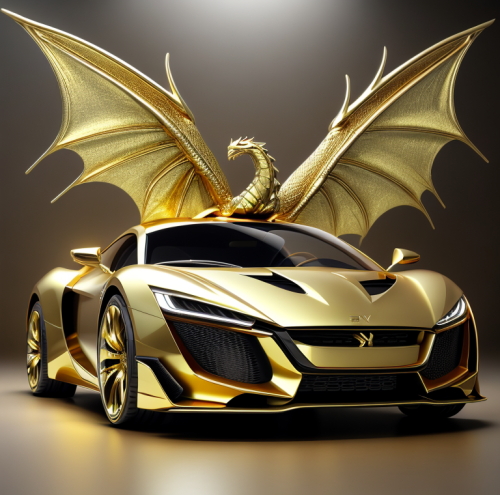other: (29, 215, 493, 443)
